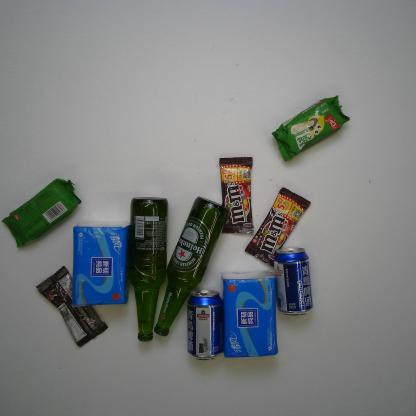Alcohol: (152, 197, 229, 337), (129, 195, 168, 343), (273, 247, 314, 317), (186, 288, 224, 361)
Chocolate: (34, 265, 110, 349), (244, 186, 312, 270), (217, 156, 255, 236)
Dessert: (1, 177, 82, 249), (270, 95, 350, 162)
Tissue: (70, 221, 132, 309), (219, 272, 278, 358)
